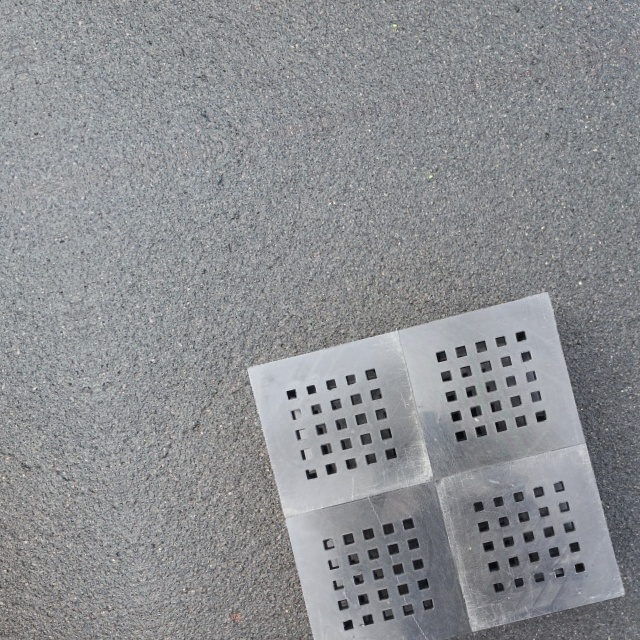pallet: (232, 282, 635, 640)
